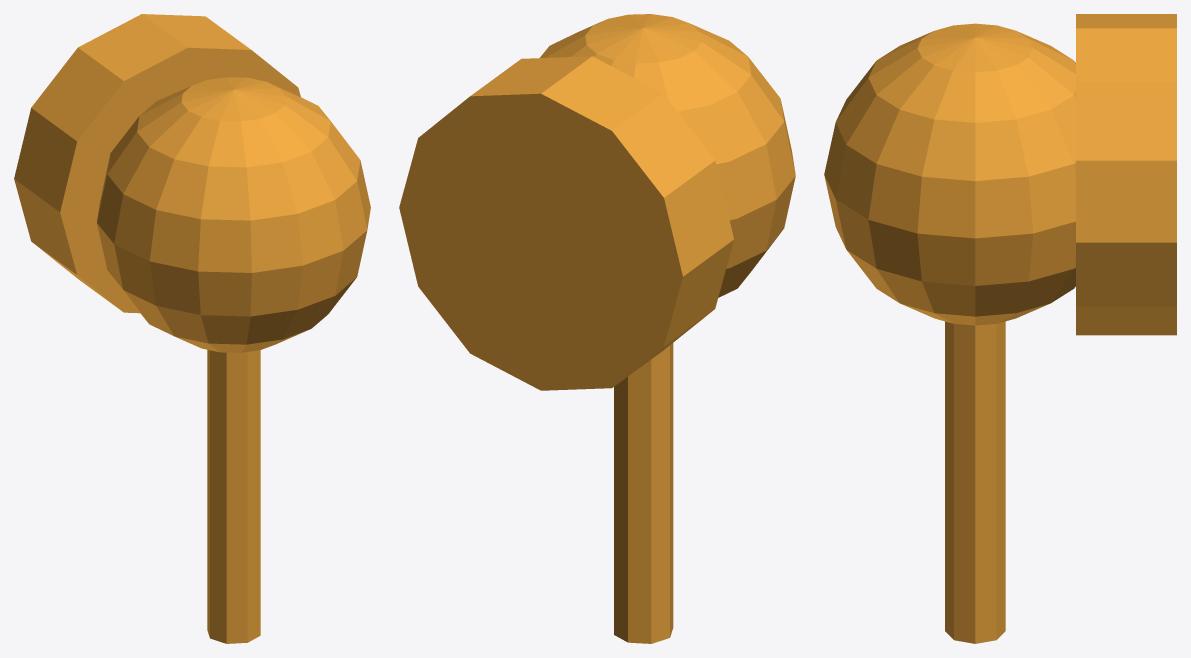
File: SM_CIWS.obj
3 views of the same model, side by side, from view 1: azimuth 30°, elevation 25°; view 2: azimuth 150°, elevation 25°; view 3: azimuth 270°, elevation 25° (orthographic). The views are drawn at different scales.
Bounding box in the file's own units: 640 × 1320 × 700.
